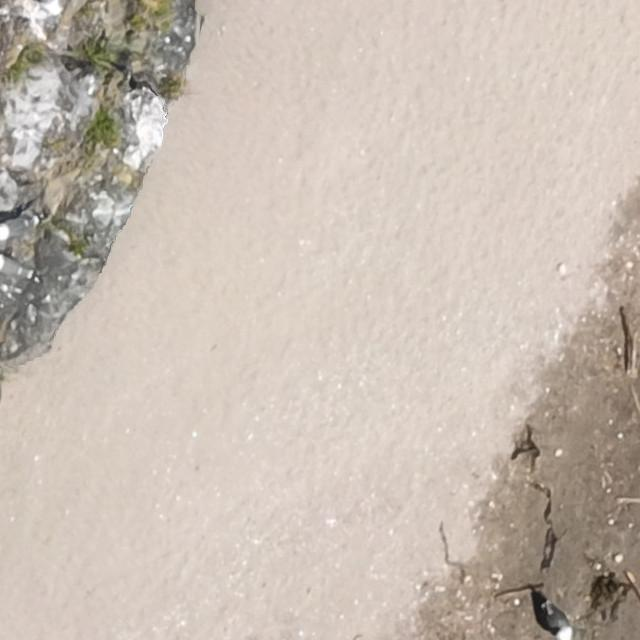umineko: (545, 605, 571, 638), (1, 219, 29, 240), (1, 257, 27, 277)
